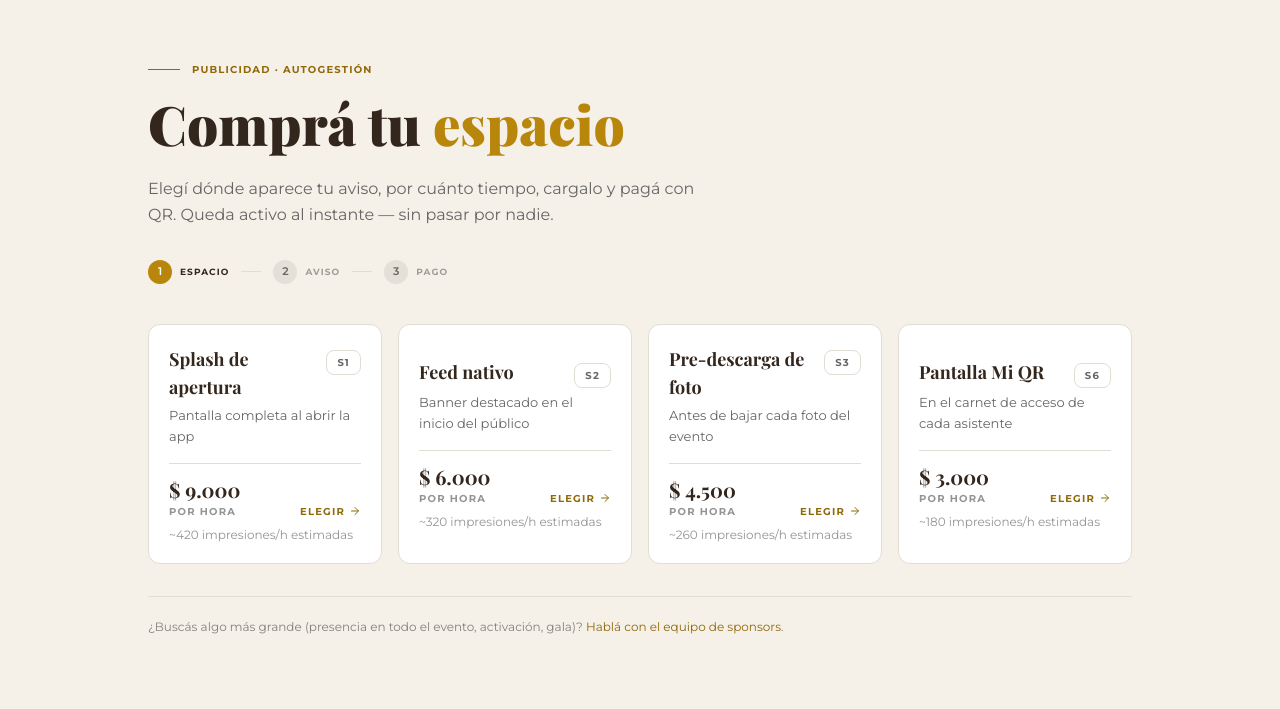
Test case: Publicidad — el QR de pago no puede llevar a una URL que no existe › SIN link configurado: no hay QR y se ofrece coordinar el pago
Click the button "Elegir": [265, 444] box [148, 324, 382, 564]
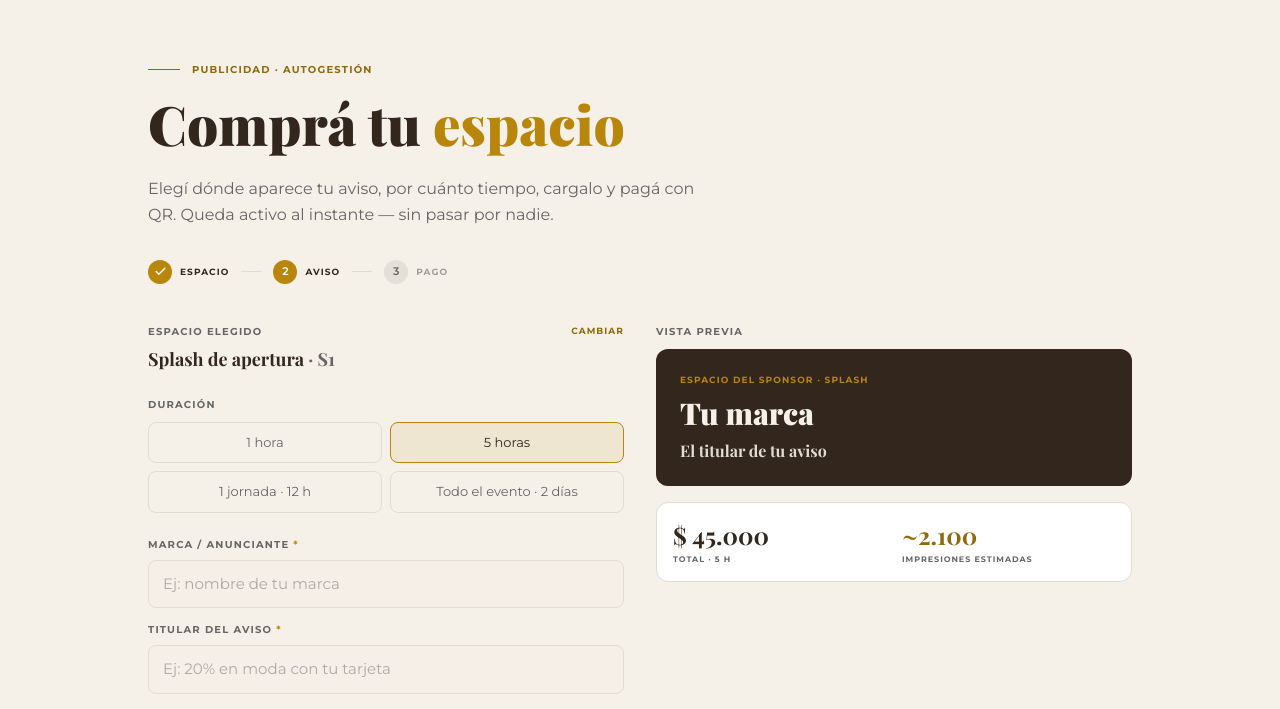
In the field labelled "Marca / anunciante*": [386, 584] box [148, 560, 624, 608], type "Marca de prueba"
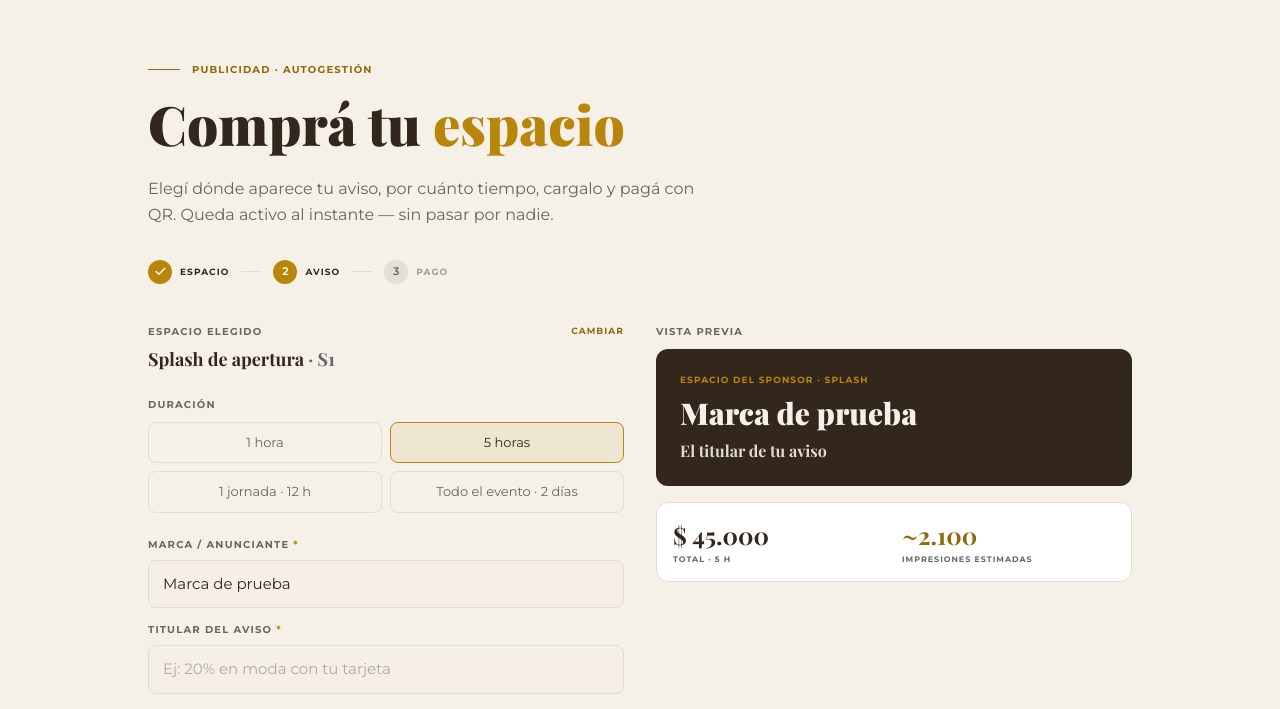
In the field labelled "Titular del aviso*": [386, 669] box [148, 645, 624, 694], type "Titular de prueba"
(page scrolled)
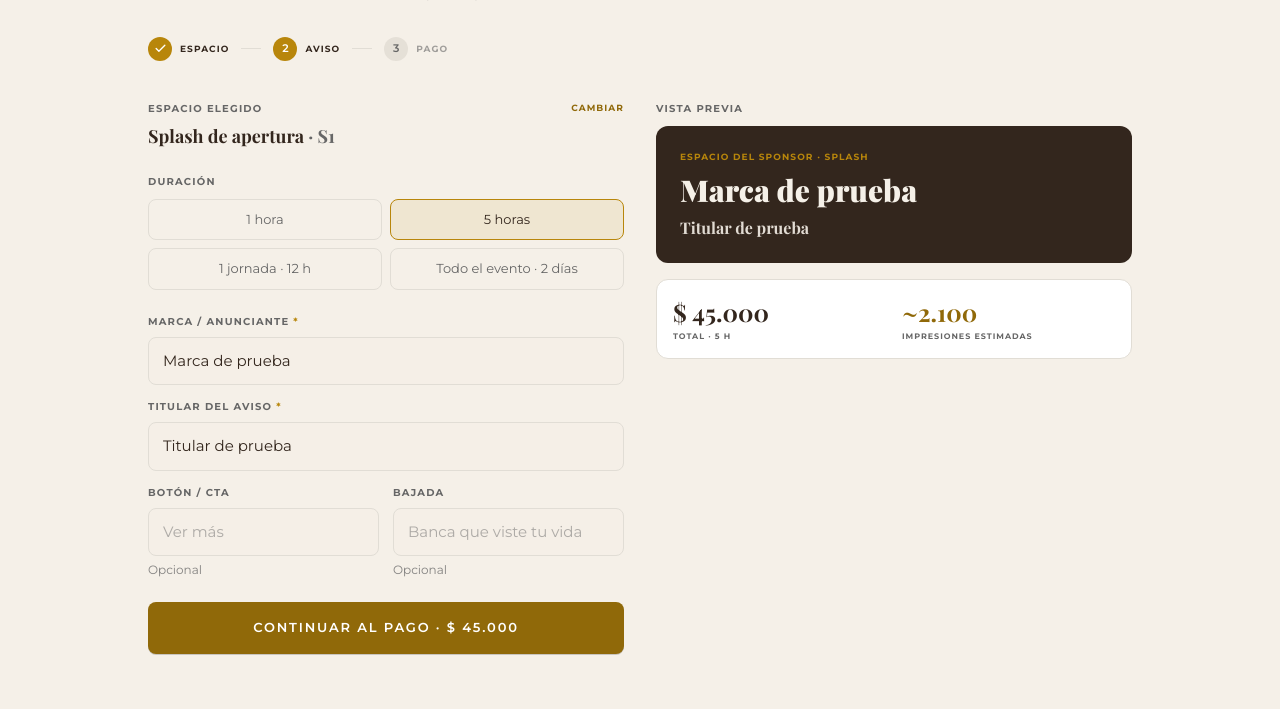
Click the button "Continuar al pago · $ 45.000": [386, 628] box [148, 602, 624, 654]
(page scrolled)
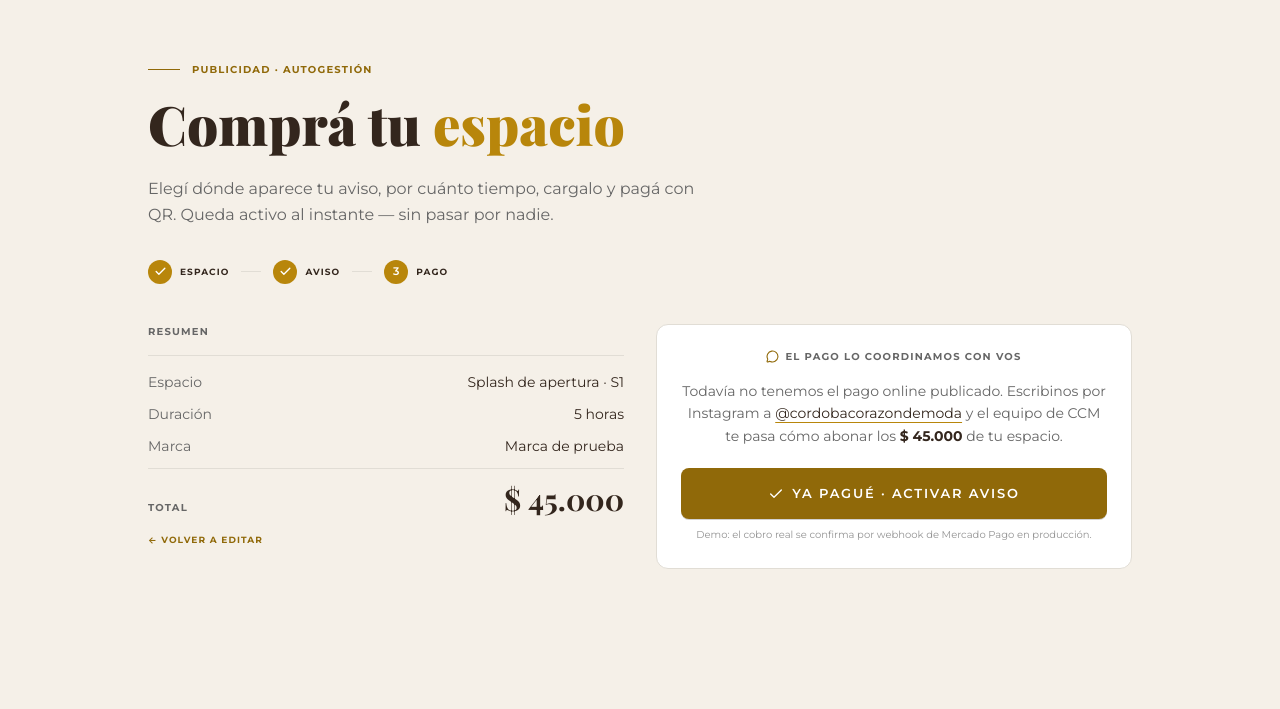
Now the text "El pago lo coordinamos con vos" is shown, box [766, 349, 1022, 364]
